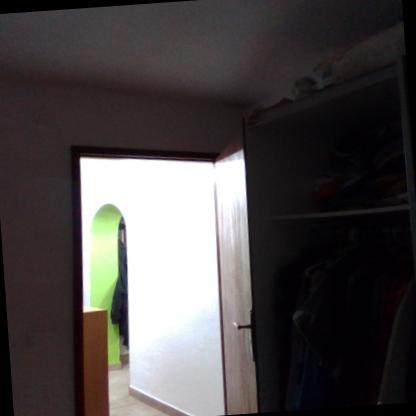open: (54, 127, 282, 415)
